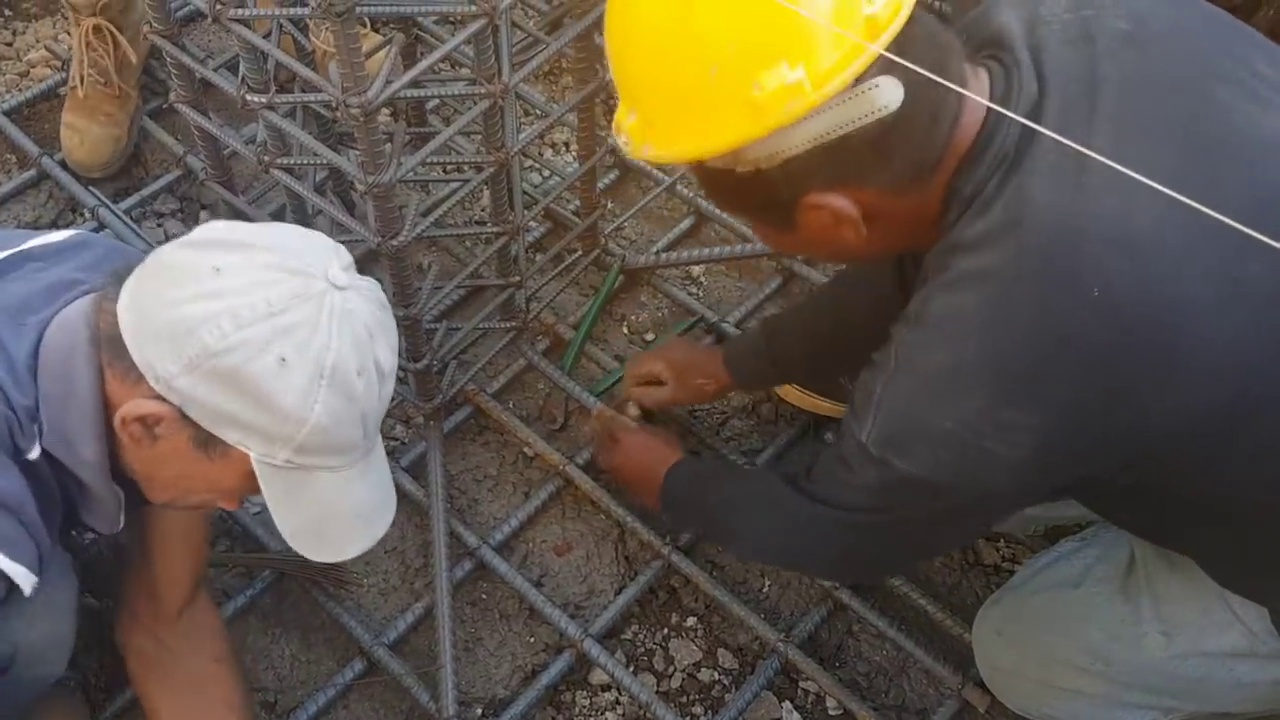helmet: (589, 2, 913, 173)
helmet-off: (88, 221, 415, 548)
helmet-on: (588, 0, 1041, 267)
person: (584, 0, 1280, 717), (3, 216, 415, 714)
